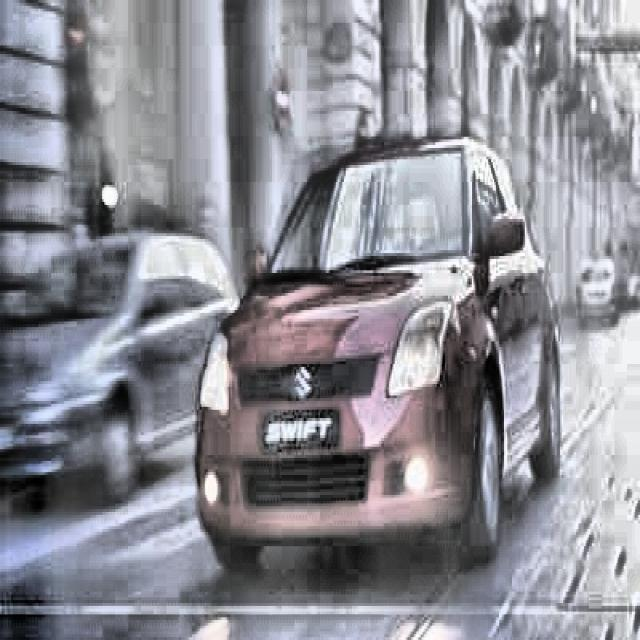license_plate: (261, 410, 338, 454)
